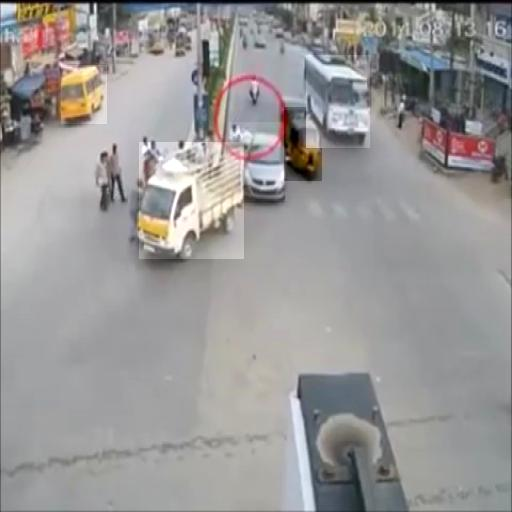小汽车: (139, 142, 244, 259), (306, 55, 370, 148), (284, 107, 322, 181), (62, 65, 108, 124)
小汽车撞自行车: (229, 122, 287, 201)
